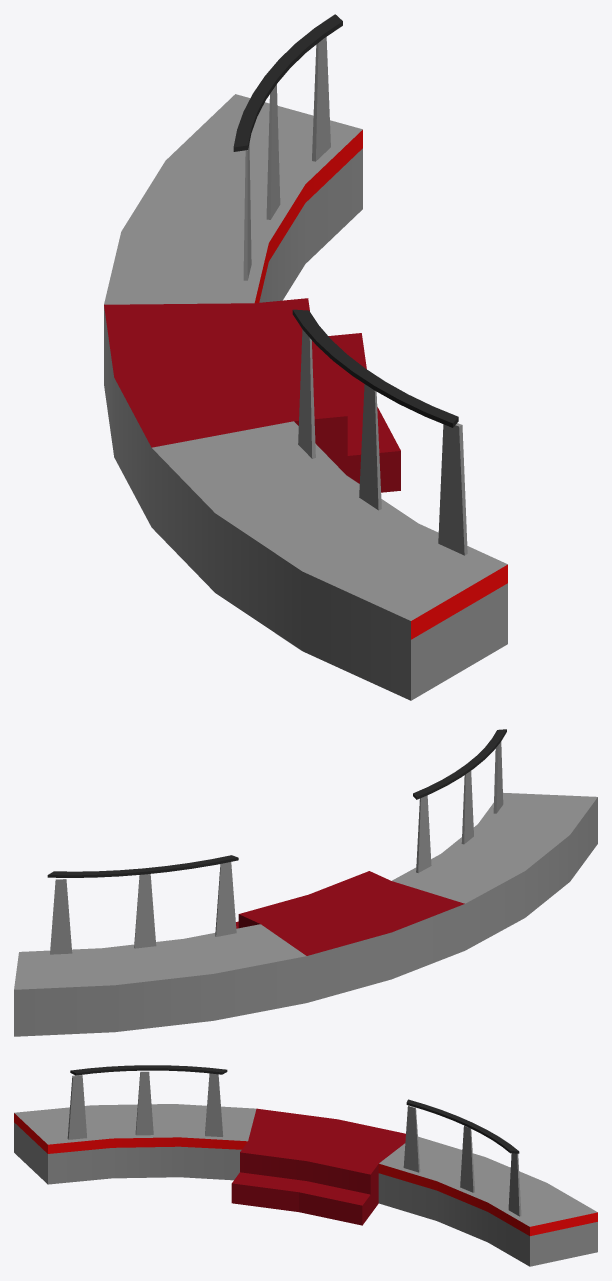
File: Gradas1.FBX
The picture shows the model from 3 angles, top to bottom: view 1: azimuth 30°, elevation 25°; view 2: azimuth 150°, elevation 25°; view 3: azimuth 270°, elevation 25°; orthographic projection. The views are drawn at different scales.
Parts seen in each view (by area): view 1: Box012; view 2: Box012; view 3: Box012.
Part boxes in pixels (x1,y1,x2,y2): Box012: (104,14,507,700); Box012: (14,729,597,1036); Box012: (14,1065,597,1266).
Size of the model in its own units: 19.04 by 7.66 by 38.2.
